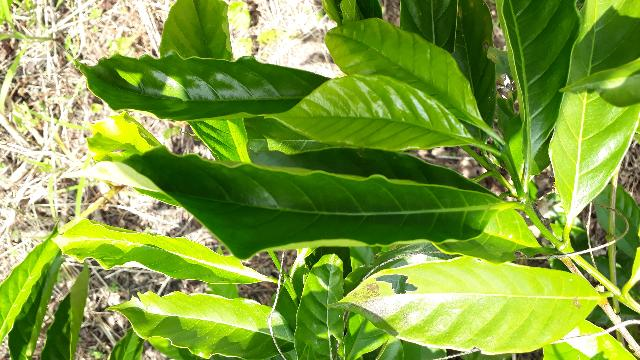healthy: (125, 98, 586, 215)
